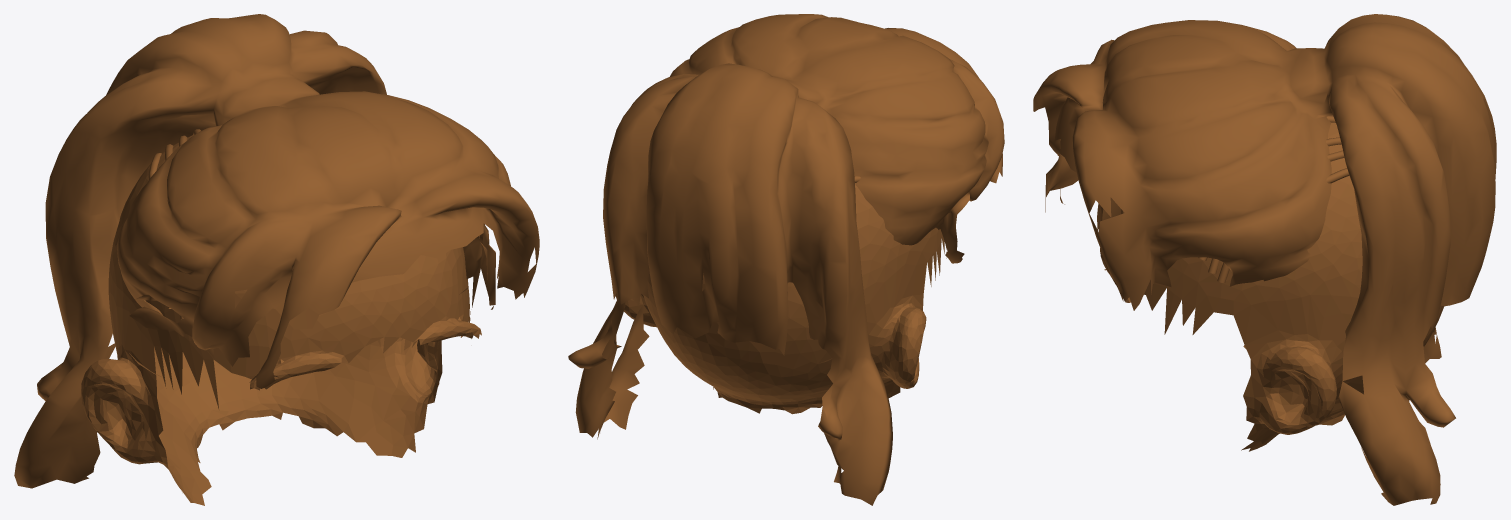
Rendered from ponytail.glb.
3 renders of one model, left to right at view 1: azimuth 30°, elevation 25°; view 2: azimuth 150°, elevation 25°; view 3: azimuth 270°, elevation 25°, orthographic. The views are drawn at different scales.
Visible parts, largest first — view 1: Hair, HairScalp; view 2: Hair, HairScalp; view 3: Hair, HairScalp, HairPulledRootStrands.
Part boxes in pixels (x1=…): Hair: x1=14, y1=14, x2=539, y2=488; HairScalp: x1=81, y1=135, x2=481, y2=505; Hair: x1=568, y1=14, x2=1004, y2=505; HairScalp: x1=615, y1=184, x2=946, y2=414; Hair: x1=1033, y1=14, x2=1496, y2=505; HairScalp: x1=1097, y1=122, x2=1444, y2=451; HairPulledRootStrands: x1=1198, y1=115, x2=1349, y2=282.
Bounding box in the file's own units: 0.4877 × 0.5605 × 0.5762.
